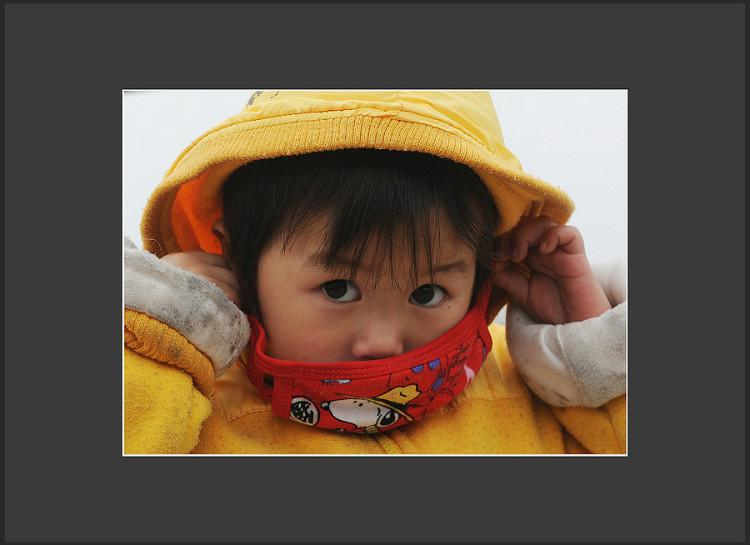WRONG: (267, 231, 469, 433)
